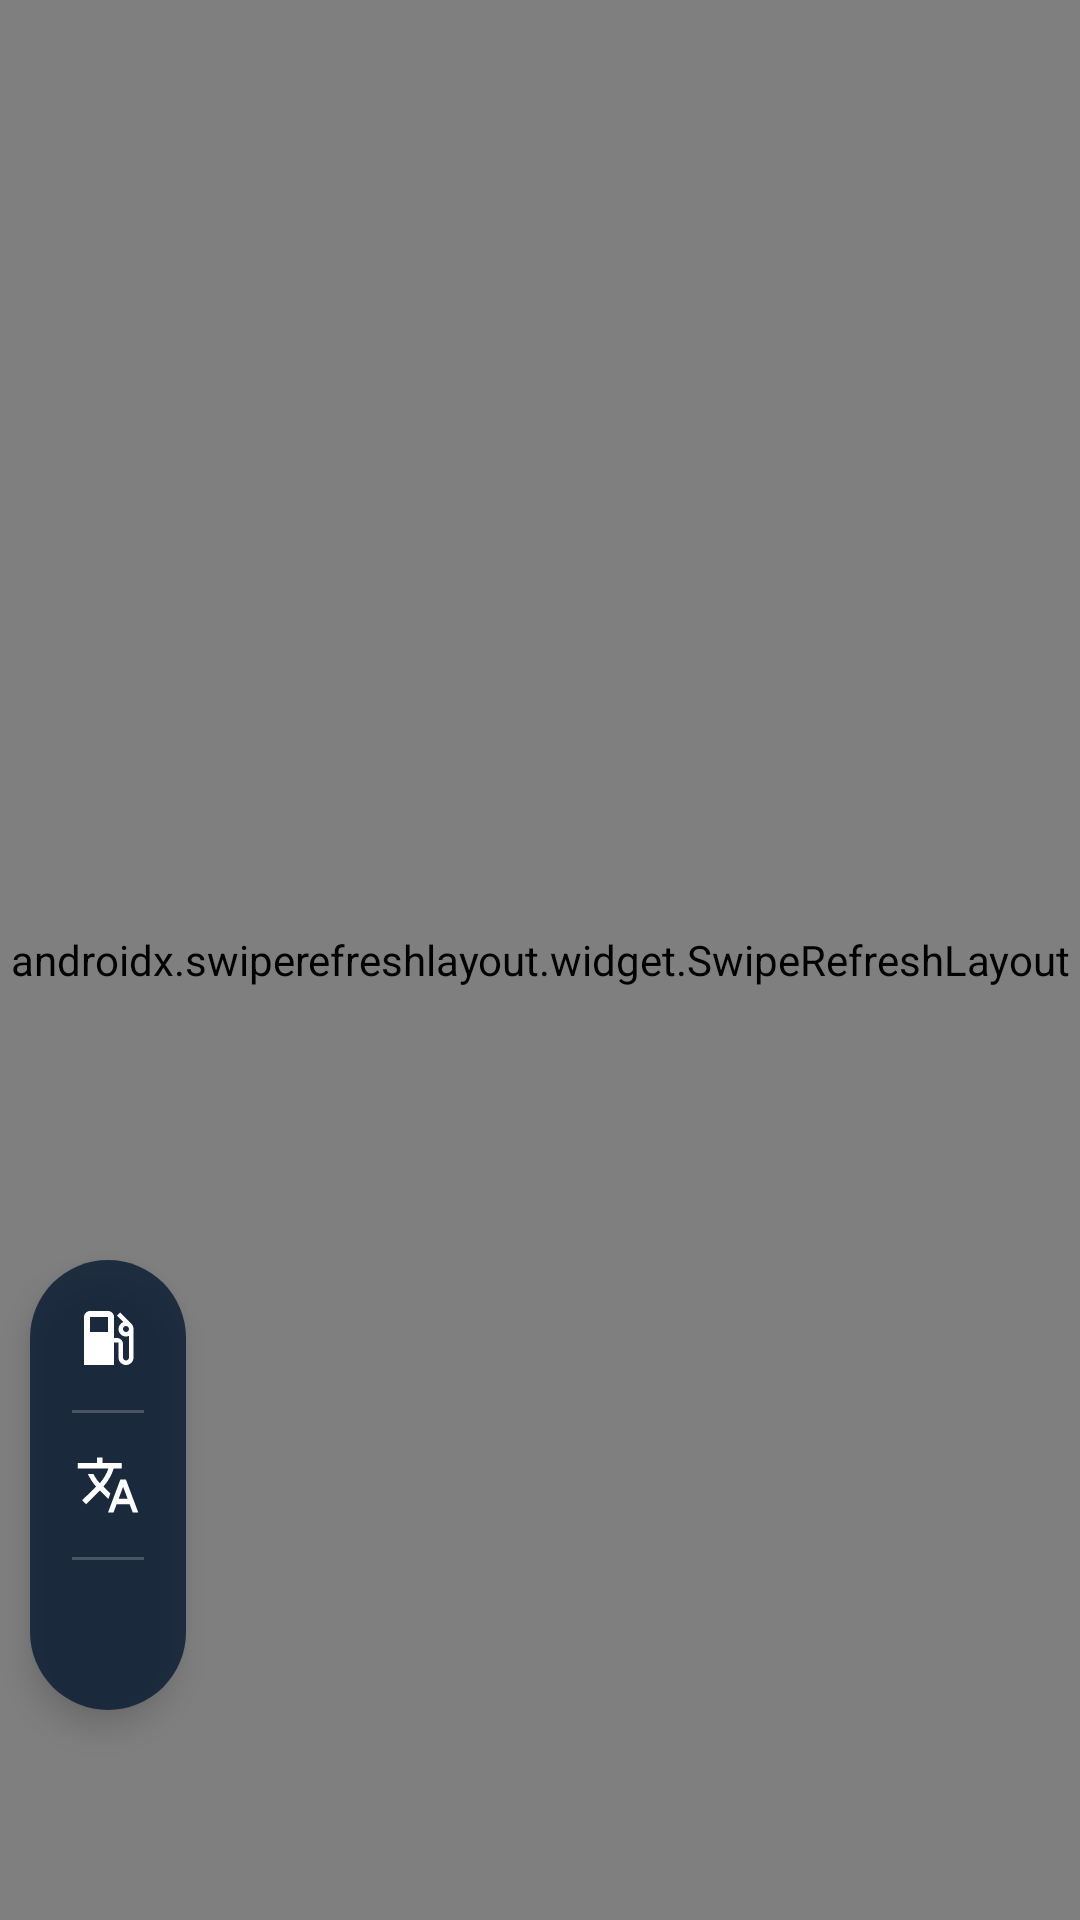

Locate icon controls on the screen. Image size 1080px x 1920px, boxes as (x1, y1, x2, y2).
اختر اللغة: (77, 1457, 138, 1513)
